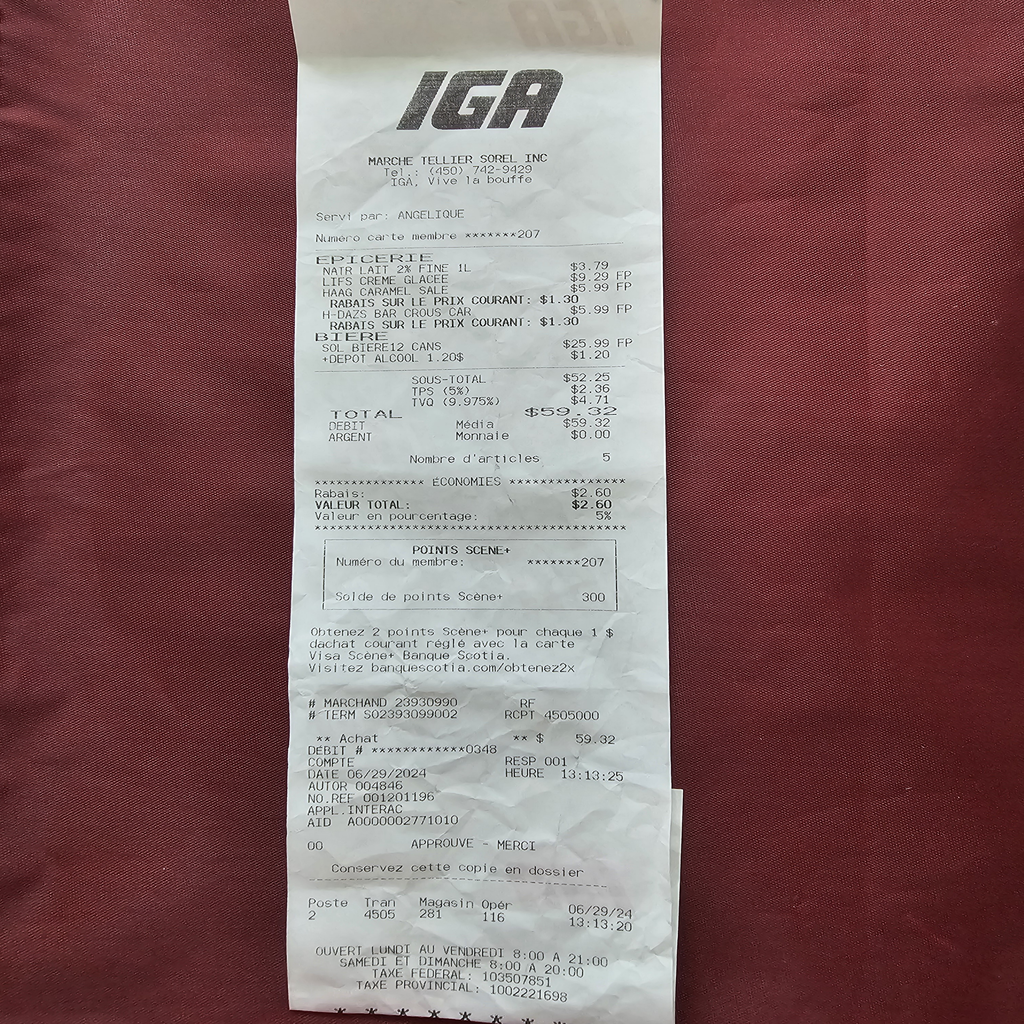recipt: (287, 0, 672, 1013)
